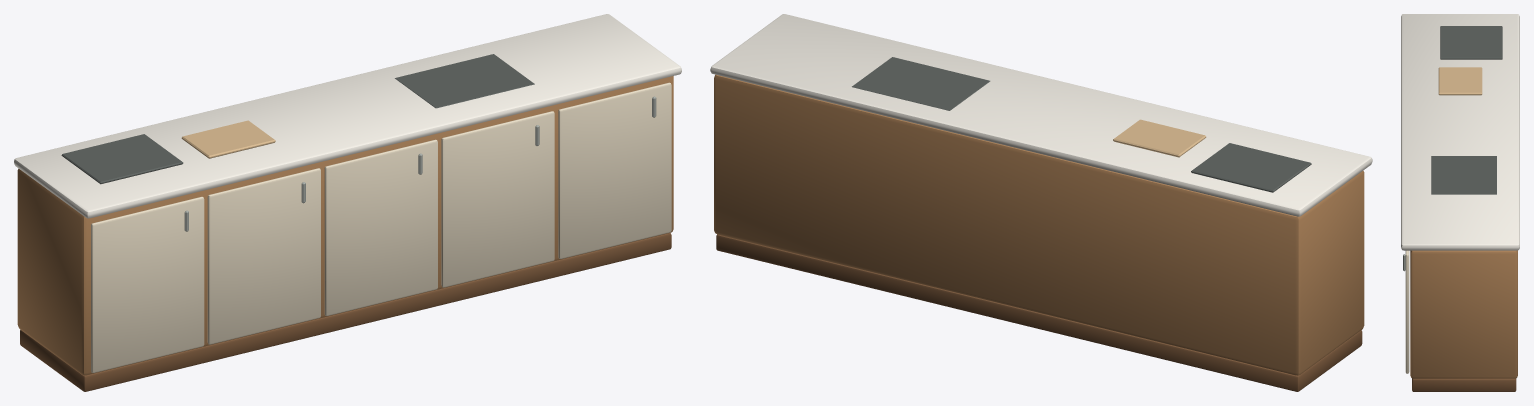
The model's file is pantry_counter.glb.
3 views of the same model, side by side, from view 1: azimuth 30°, elevation 25°; view 2: azimuth 150°, elevation 25°; view 3: azimuth 270°, elevation 25° (orthographic). The views are drawn at different scales.
Visible parts, largest first — view 1: FURN-pantry_counter; view 2: FURN-pantry_counter; view 3: FURN-pantry_counter.
Boxes of the visible parts, x1,y1,x2,y2 form: FURN-pantry_counter: (14,14,681,391); FURN-pantry_counter: (710,14,1372,391); FURN-pantry_counter: (1401,14,1519,391).
Bounding box in the file's own units: 3 × 0.915 × 0.65.
